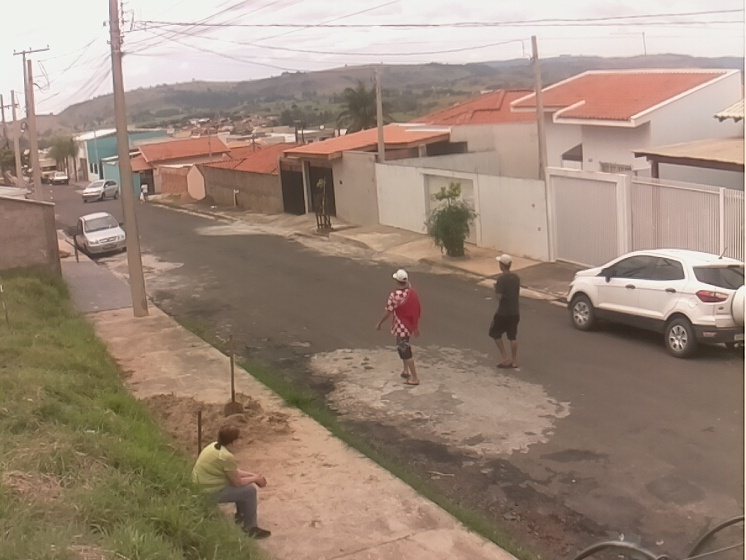person: (191, 424, 271, 538), (376, 268, 424, 386), (487, 254, 522, 370)
